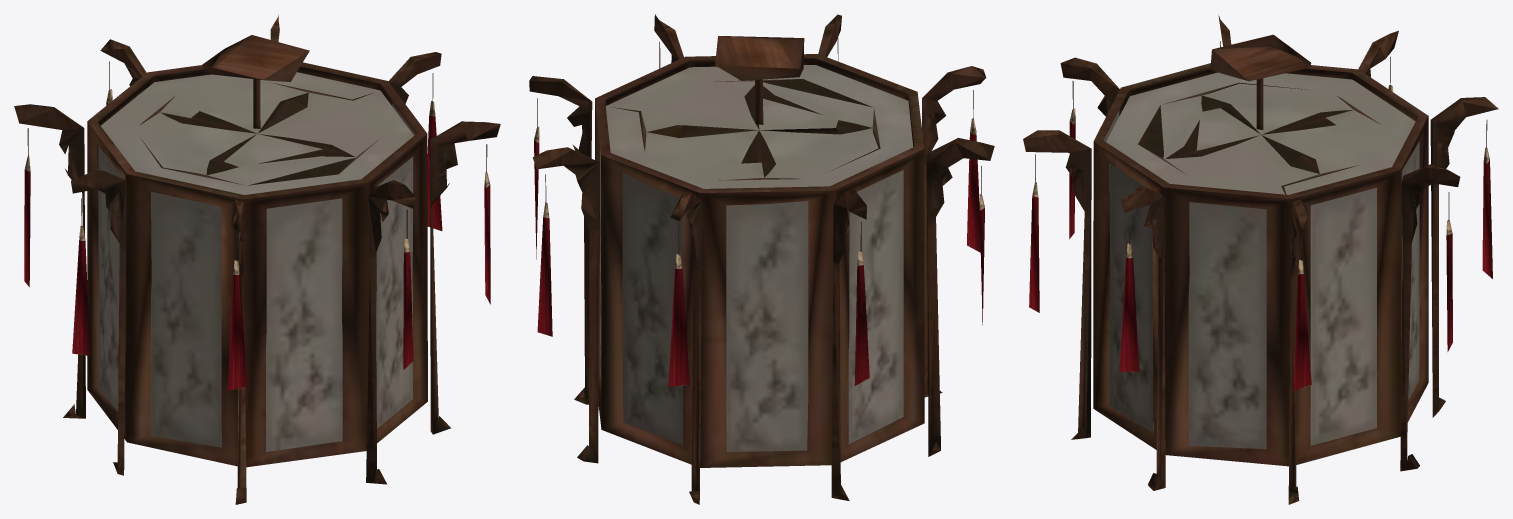
The model's file is chandelier-lantern.glb.
3 renders of one model, left to right at view 1: azimuth 30°, elevation 25°; view 2: azimuth 150°, elevation 25°; view 3: azimuth 270°, elevation 25°, orthographic. The views are drawn at different scales.
Visible parts, largest first — view 1: chinese_chandelier; view 2: chinese_chandelier; view 3: chinese_chandelier.
Part boxes in pixels (bbox=[...]): chinese_chandelier: bbox=[14, 14, 500, 504]; chinese_chandelier: bbox=[529, 14, 994, 504]; chinese_chandelier: bbox=[1023, 15, 1498, 504].
Size of the model in its own units: 0.868 by 0.7497 by 0.8722.
Materials: 1 (1 with a texture image).
